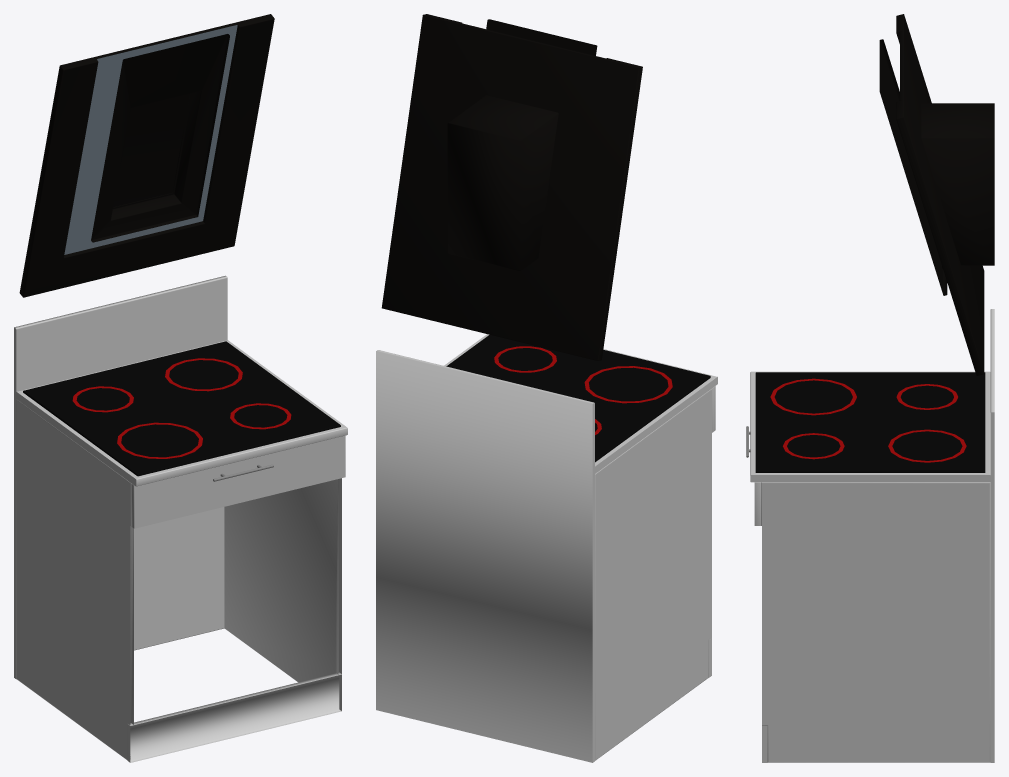
File: 671Main.obj
The picture shows the model from 3 angles, left to right: view 1: azimuth 30°, elevation 25°; view 2: azimuth 150°, elevation 25°; view 3: azimuth 270°, elevation 25°; orthographic projection. The views are drawn at different scales.
Parts seen in each view (by area): view 1: 671; view 2: 671; view 3: 671.
Part boxes in pixels (<box>): 671: <box>14,14,347,762</box>; 671: <box>376,14,717,762</box>; 671: <box>746,14,994,762</box>.
Bounding box in the file's own units: 0.6 × 1.75 × 0.6105.
